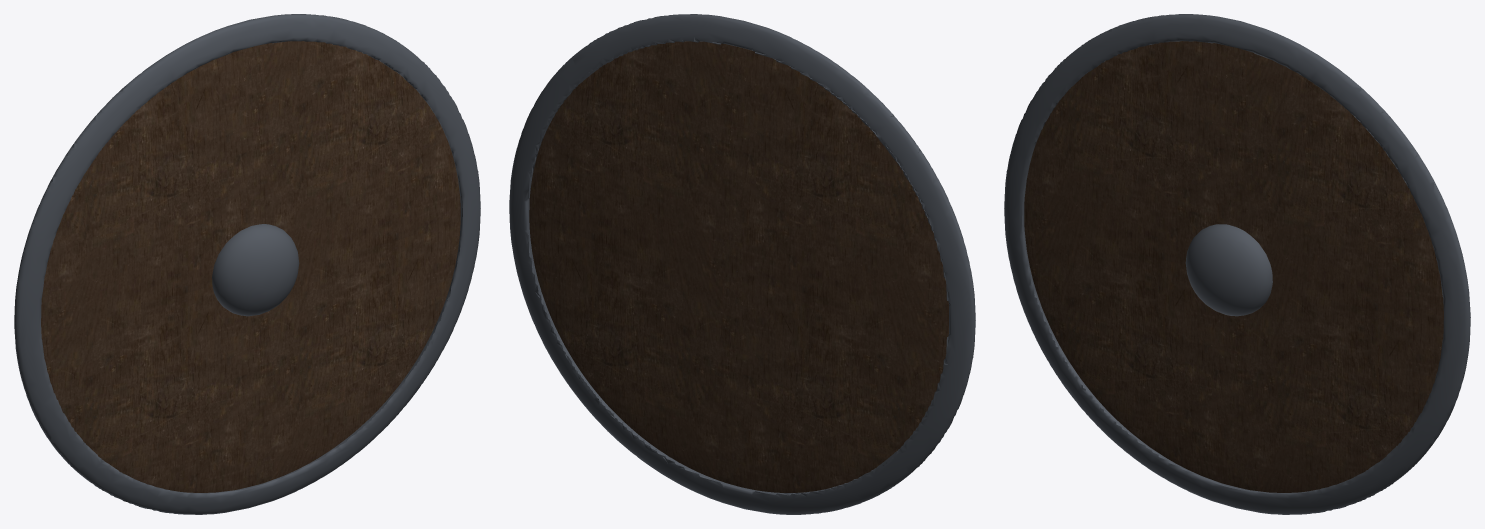
Rendered from w-roundshield.glb.
The picture shows the model from 3 angles, left to right: view 1: azimuth 30°, elevation 25°; view 2: azimuth 150°, elevation 25°; view 3: azimuth 330°, elevation 25°; orthographic projection.
Parts seen in each view (by area): view 1: w-roundshield; view 2: w-roundshield; view 3: w-roundshield.
Part boxes in pixels (left/top/right/bottom): w-roundshield: left=14, top=14, right=480, bottom=514; w-roundshield: left=509, top=14, right=975, bottom=514; w-roundshield: left=1004, top=14, right=1470, bottom=514.
Size of the model in its own units: 0.7685 by 0.7685 by 0.08.
Materials: 2 (1 with a texture image).
